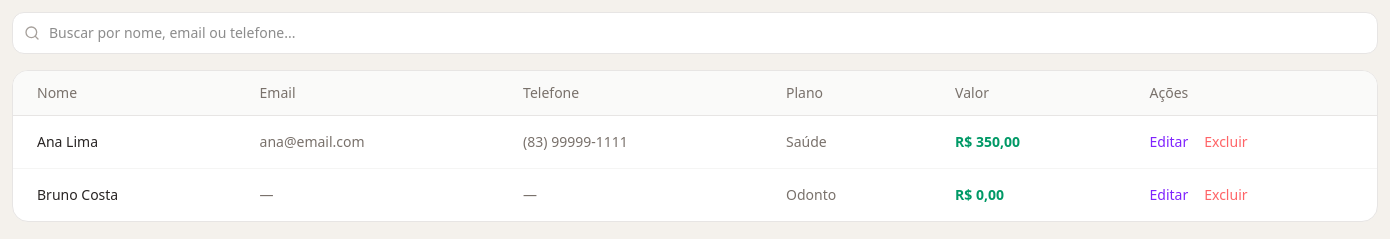
Test: ClienteTablePosVenda › filters by name search
Type "Ana" into the field with placeholder "Buscar por nome, email ou telefone..." at (695, 33), box [12,12,1378,54]
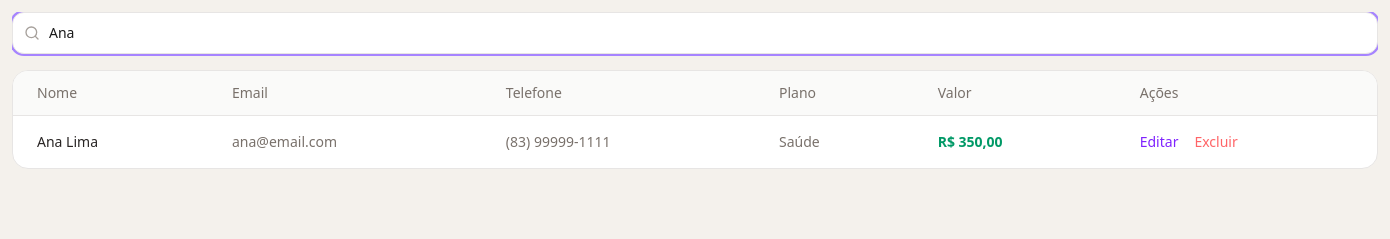
Expected: the text "Ana Lima" is shown, [13,116,208,168]
Result: the text "Bruno Costa" is gone
